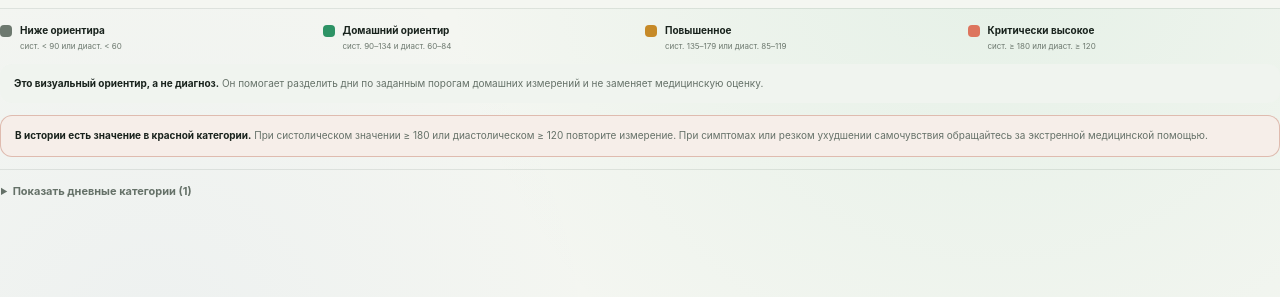
Scenario: PressureCategoryGuide › shows exact boundaries, a cautious disclaimer and an accessible daily table
Expected: the list named "Границы категорий давления" shows "Ниже ориентира", [20,24,105,36]
Expected: the list named "Границы категорий давления" shows "сист. 90–134 и диаст. 60–84", [342,40,451,50]
Click the heading "Показать дневные категории (1)" at {"x": 102, "y": 191}, box [13,184,192,198]
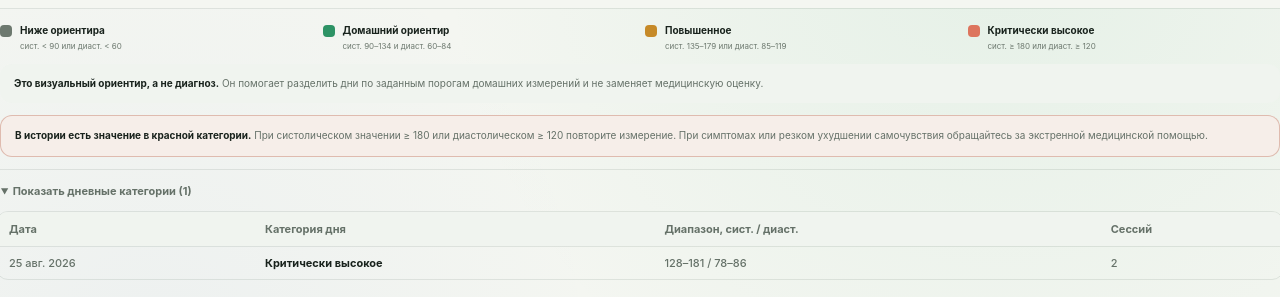
Expected: the table named "Дневные категории давления и диапазоны сессий" shows "Критически высокое", [265,256,383,270]
